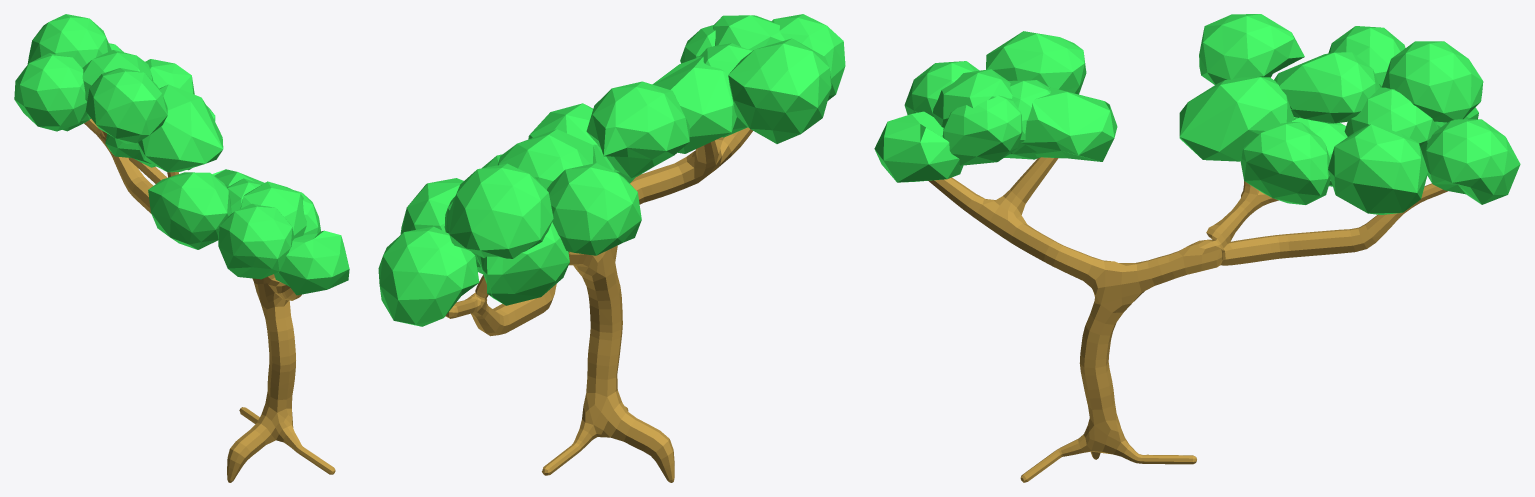
The model's file is tree74.gltf.
3 views of the same model, side by side, from view 1: azimuth 30°, elevation 25°; view 2: azimuth 150°, elevation 25°; view 3: azimuth 270°, elevation 25° (orthographic). The views are drawn at different scales.
Parts seen in each view (by area): view 1: Cube, Icosphere.014, Icosphere.003, Icosphere.009, Icosphere.013, Icosphere.010, Icosphere, Icosphere.008, Icosphere.002, Icosphere.007, Icosphere.017, Icosphere.004 (+3 smaller); view 2: Cube, Icosphere.014, Icosphere.008, Icosphere.006, Icosphere.009, Icosphere.010, Icosphere.001, Icosphere.011, Icosphere.007, Icosphere.013, Icosphere.017, Icosphere.002 (+3 smaller); view 3: Cube, Icosphere.017, Icosphere.003, Icosphere.006, Icosphere.016, Icosphere.008, Icosphere.009, Icosphere.007, Icosphere.001, Icosphere, Icosphere.014, Icosphere.015 (+6 smaller).
Part boxes in pixels (left/top/right/bottom): Cube: left=84, top=118, right=335, bottom=482; Icosphere.014: left=148, top=172, right=231, bottom=249; Icosphere.003: left=137, top=84, right=223, bottom=172; Icosphere.009: left=85, top=68, right=167, bottom=143; Icosphere.013: left=218, top=203, right=294, bottom=279; Icosphere.010: left=14, top=53, right=87, bottom=131; Icosphere: left=274, top=230, right=349, bottom=295; Icosphere.008: left=27, top=14, right=111, bottom=67; Icosphere.002: left=240, top=181, right=306, bottom=238; Icosphere.007: left=82, top=50, right=153, bottom=101; Icosphere.017: left=145, top=59, right=194, bottom=94; Icosphere.004: left=105, top=133, right=155, bottom=167; Cube: left=445, top=127, right=752, bottom=482; Icosphere.014: left=728, top=38, right=831, bottom=143; Icosphere.008: left=447, top=163, right=553, bottom=258; Icosphere.006: left=378, top=226, right=479, bottom=326; Icosphere.009: left=586, top=81, right=689, bottom=178; Icosphere.010: left=547, top=163, right=641, bottom=255; Icosphere.001: left=652, top=56, right=736, bottom=153; Icosphere.011: left=476, top=222, right=569, bottom=305; Icosphere.007: left=498, top=129, right=596, bottom=189; Icosphere.013: left=771, top=14, right=845, bottom=100; Icosphere.017: left=400, top=178, right=463, bottom=234; Icosphere.002: left=713, top=15, right=784, bottom=50; Cube: left=928, top=157, right=1448, bottom=482; Icosphere.017: left=1328, top=124, right=1428, bottom=214; Icosphere.003: left=1179, top=77, right=1294, bottom=161; Icosphere.006: left=1423, top=119, right=1520, bottom=204; Icosphere.016: left=1240, top=121, right=1330, bottom=204; Icosphere.008: left=1382, top=41, right=1483, bottom=122; Icosphere.009: left=1199, top=14, right=1304, bottom=84; Icosphere.007: left=1274, top=52, right=1380, bottom=123; Icosphere.001: left=1021, top=87, right=1117, bottom=161; Icosphere: left=874, top=111, right=963, bottom=182; Icosphere.014: left=986, top=31, right=1086, bottom=94; Icosphere.015: left=942, top=95, right=1022, bottom=165.
Size of the model in its own units: 4.95 by 9.74 by 13.51.
